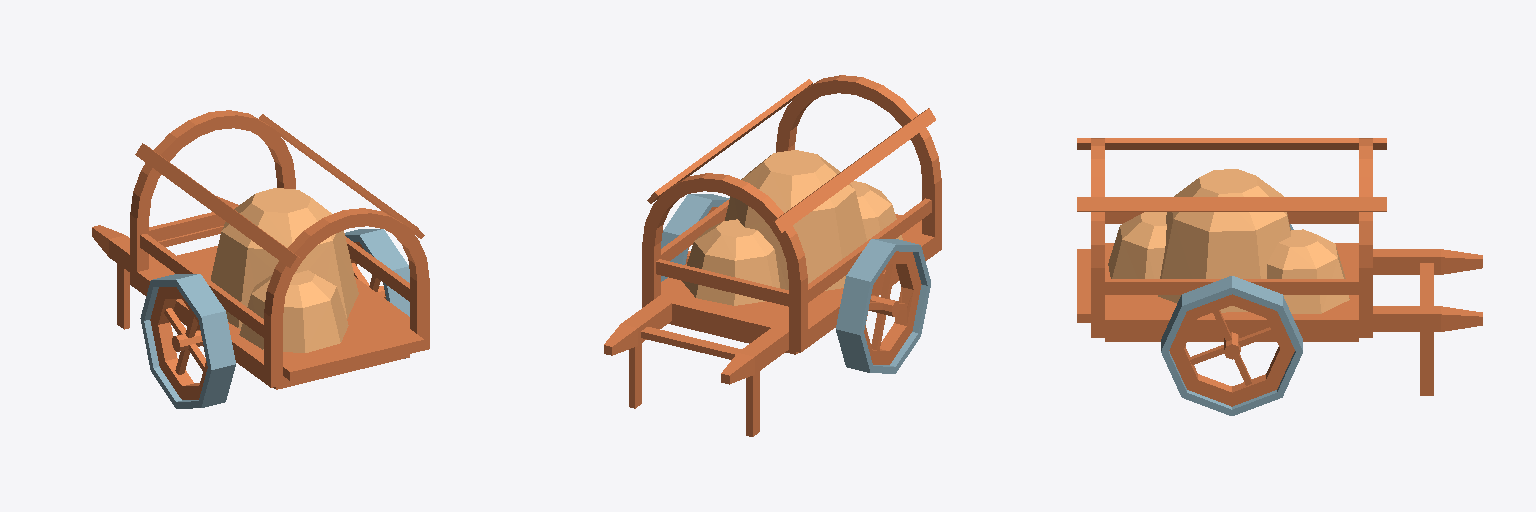
Rendered from cartHigh.obj.
The picture shows the model from 3 angles: view 1: azimuth 30°, elevation 25°; view 2: azimuth 150°, elevation 25°; view 3: azimuth 270°, elevation 25°; orthographic projection.
Visible parts, largest first — view 1: cartHigh, hay, wheel; view 2: cartHigh, hay, wheel; view 3: cartHigh, hay, wheel.
Part boxes in pixels (bbox=[...]): cartHigh: bbox=[92, 110, 429, 389]; hay: bbox=[211, 188, 358, 352]; wheel: bbox=[140, 229, 409, 408]; cartHigh: bbox=[604, 75, 941, 436]; hay: bbox=[682, 150, 902, 305]; wheel: bbox=[661, 194, 930, 373]; cartHigh: bbox=[1077, 138, 1482, 395]; hay: bbox=[1108, 169, 1349, 313]; wheel: bbox=[1161, 224, 1302, 415].
Bounding box in the file's own units: 0.852 × 0.861 × 1.44.